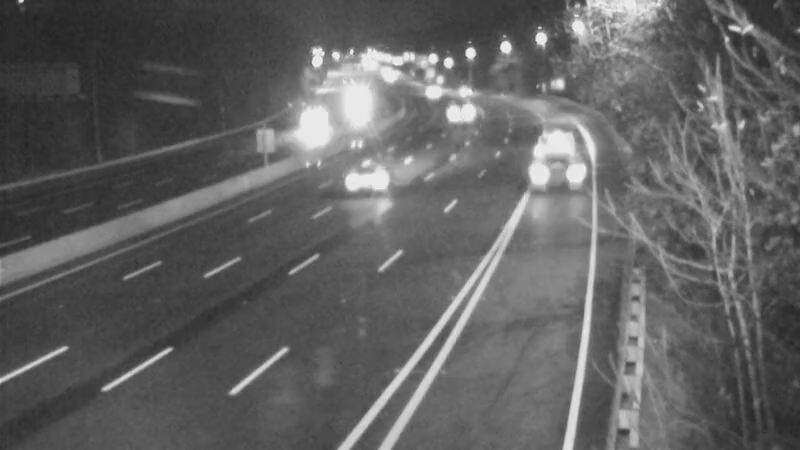vehicle: (515, 117, 595, 197), (330, 135, 410, 215), (438, 65, 488, 115), (407, 62, 457, 112), (438, 86, 488, 136), (289, 97, 339, 147), (332, 80, 382, 130)
